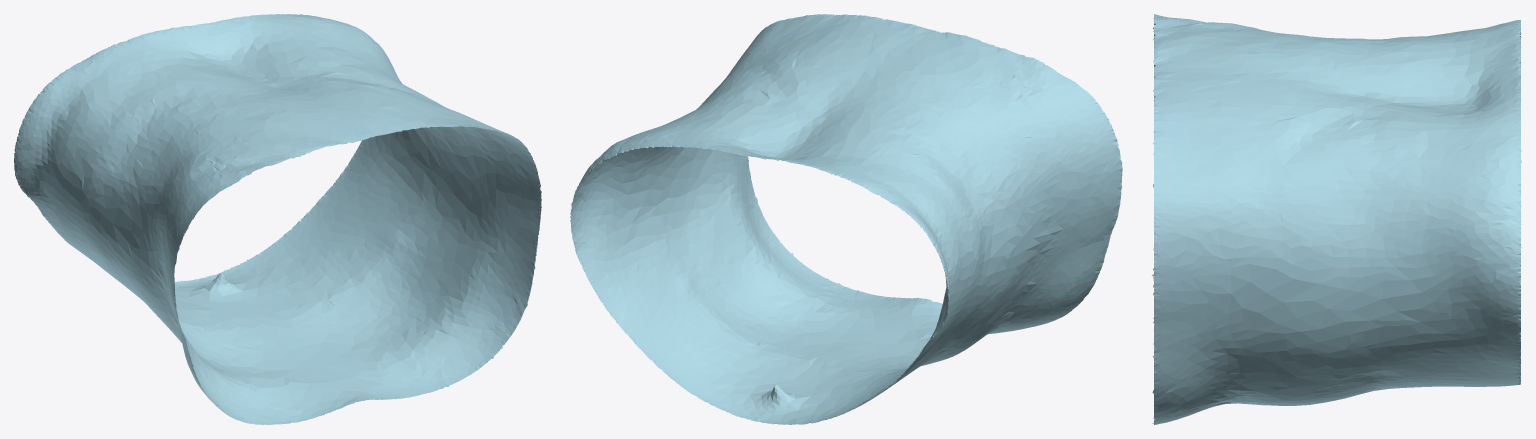
Rendered from skin.obj.
3 views of the same model, side by side, from view 1: azimuth 30°, elevation 25°; view 2: azimuth 150°, elevation 25°; view 3: azimuth 270°, elevation 25° (orthographic). The views are drawn at different scales.
Visible parts, largest first — view 1: grp1; view 2: grp1; view 3: grp1.
Boxes of the visible parts, box(x1,y1,x2,y2) form: grp1: box(14, 14, 541, 424); grp1: box(570, 14, 1122, 424); grp1: box(1151, 14, 1521, 424).
Size of the model in its own units: 353 by 249 by 275.
